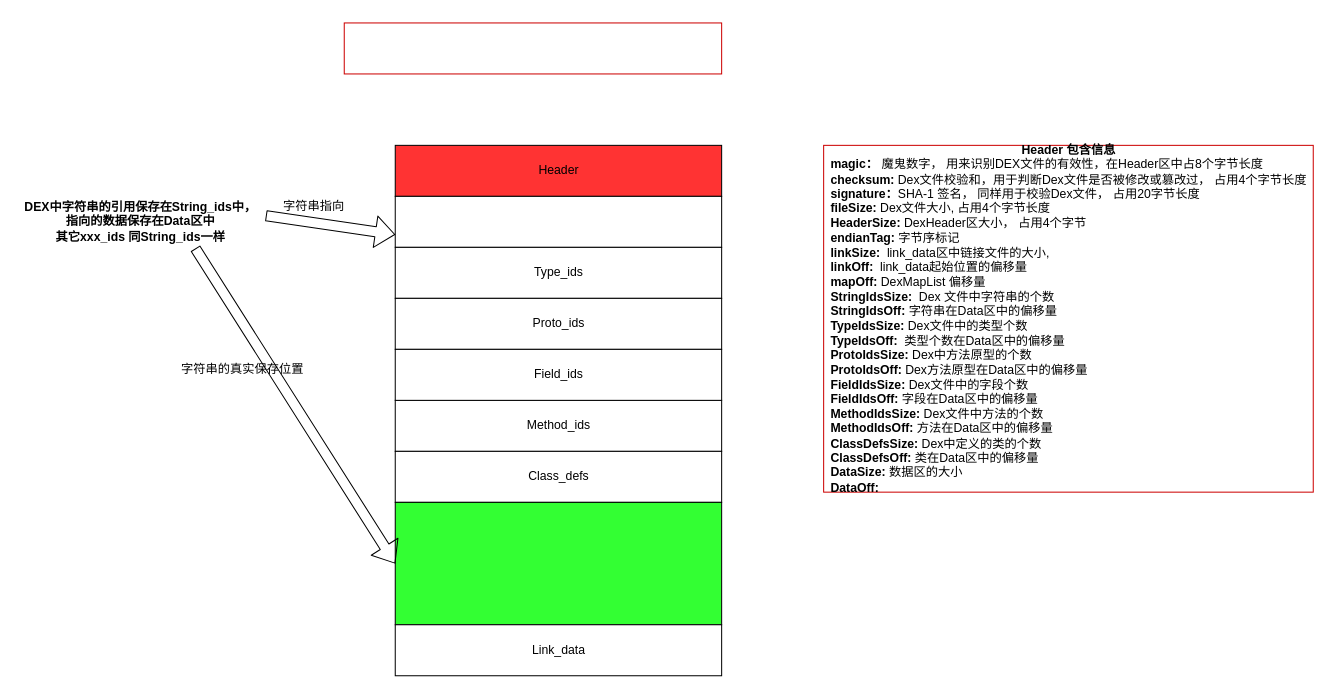
Some shapes in this 1331 by 694 pixel diagram are drawn without their labels. Here are the shapes that lost their labels. From the top down, the centre of each, then its label:
the point at 532,48: Dex 文件中相关结构，可以参看/dalvik/libdex/DexFile.h
the point at 558,221: String_ids
the point at 558,563: Data
